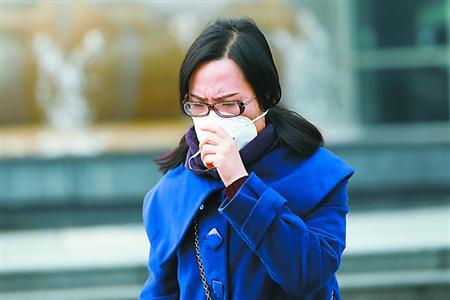OK: (187, 88, 259, 156)
